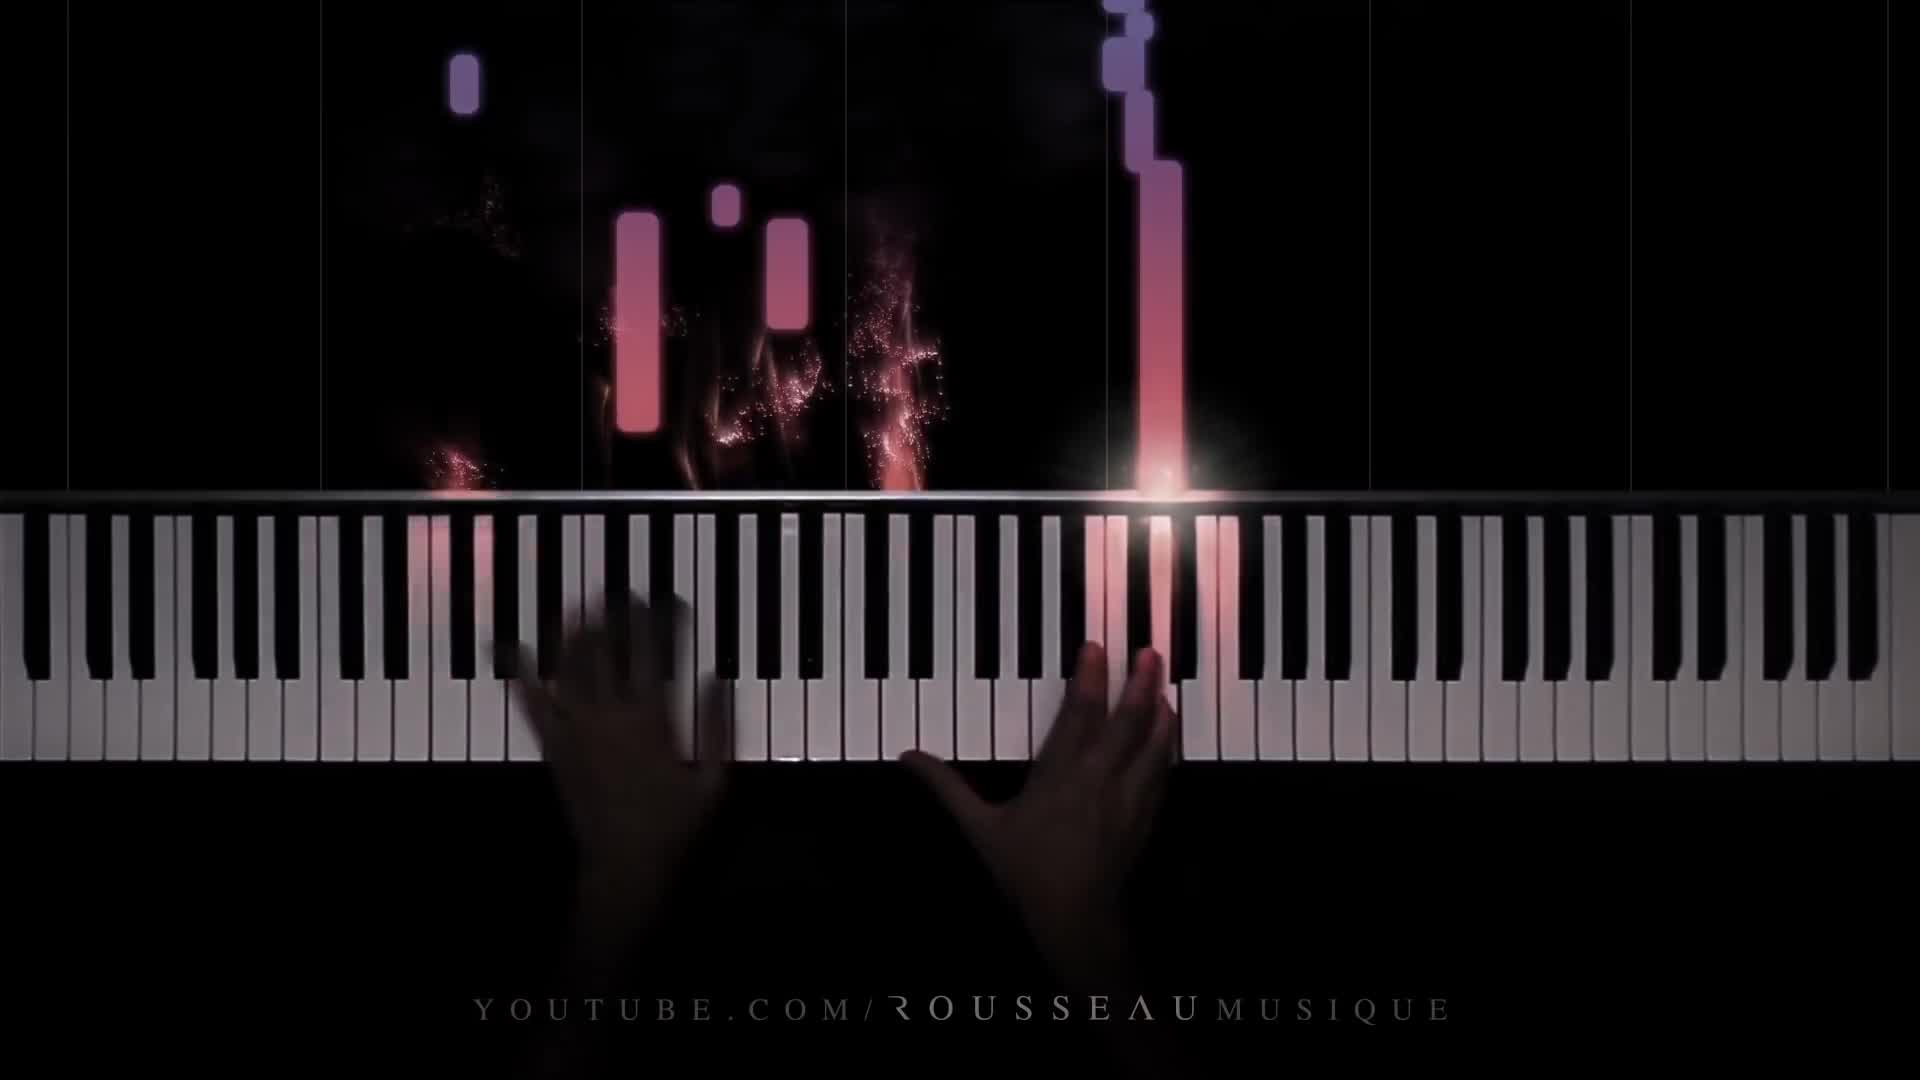left: (508, 591, 731, 864)
right: (898, 644, 1178, 885)
